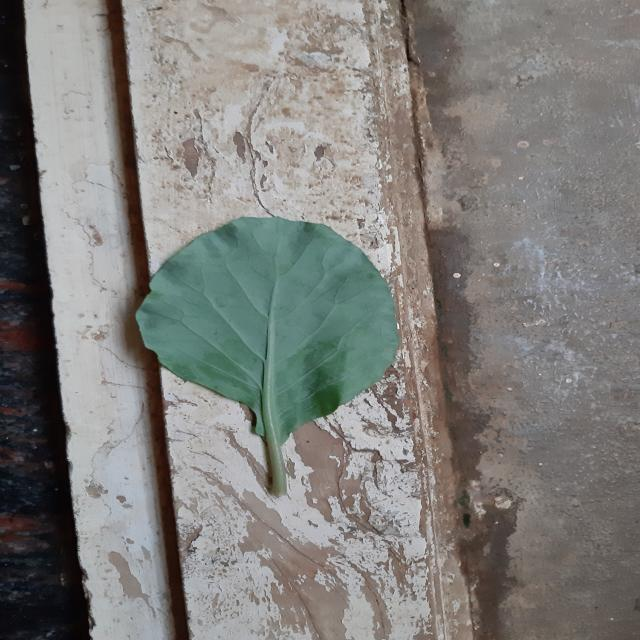Kohlrabi: (136, 218, 400, 495)
